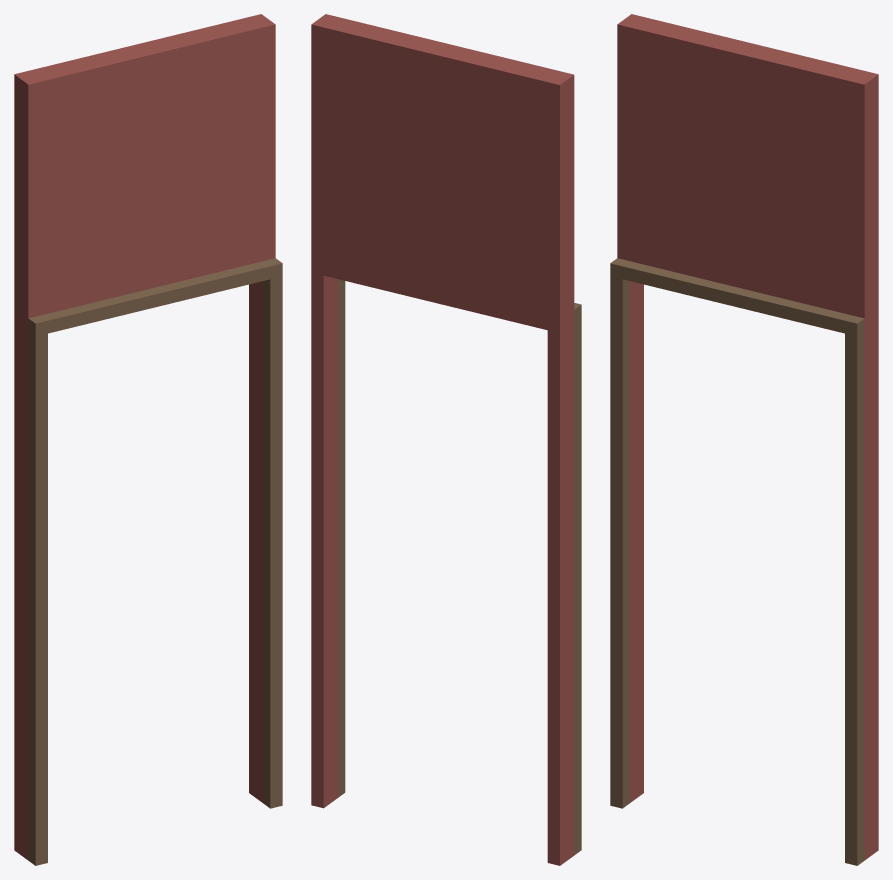
File: Mesh_DoorHole_03.fbx
3 renders of one model, left to right at view 1: azimuth 30°, elevation 25°; view 2: azimuth 150°, elevation 25°; view 3: azimuth 330°, elevation 25°, orthographic.
Parts seen in each view (by area): view 1: Mesh_DoorHole_03; view 2: Mesh_DoorHole_03; view 3: Mesh_DoorHole_03.
Boxes of the visible parts, bbox=[...] form: Mesh_DoorHole_03: bbox=[14, 14, 282, 865]; Mesh_DoorHole_03: bbox=[311, 14, 581, 865]; Mesh_DoorHole_03: bbox=[610, 14, 878, 865].
Size of the model in its own units: 1 by 3 by 0.15.
